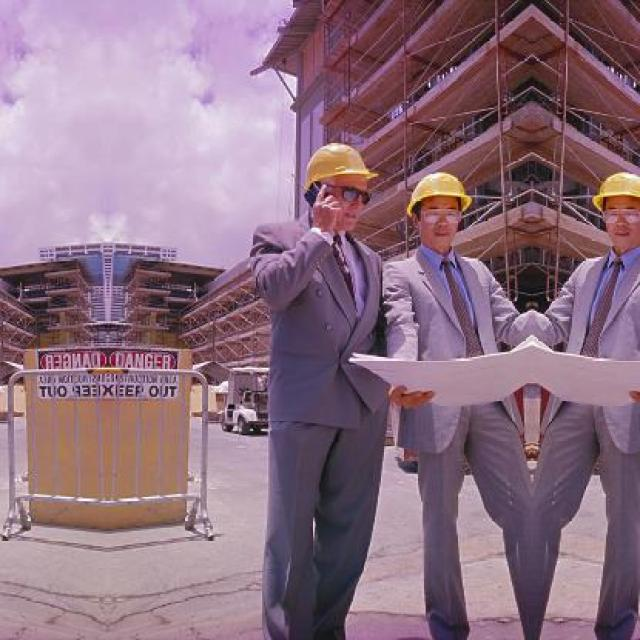helmet: (291, 139, 383, 239), (400, 165, 477, 253), (586, 164, 637, 253)
